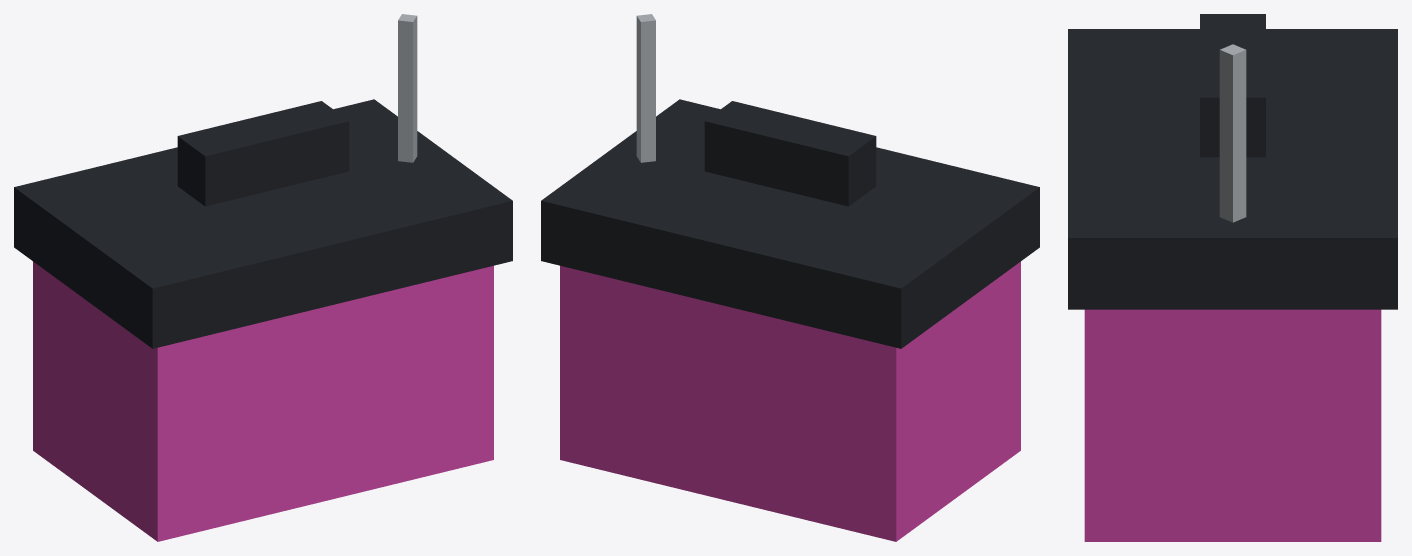
File: charge-plasma.lod.glb
3 views of the same model, side by side, from view 1: azimuth 30°, elevation 25°; view 2: azimuth 150°, elevation 25°; view 3: azimuth 270°, elevation 25° (orthographic). The views are drawn at different scales.
Visible parts, largest first — view 1: m; view 2: m; view 3: m.
Boxes of the visible parts, x1,y1,x2,y2 form: m: (14,14,512,541); m: (541,14,1039,541); m: (1068,14,1397,541).
Size of the model in its own units: 0.075 by 0.08 by 0.05.
